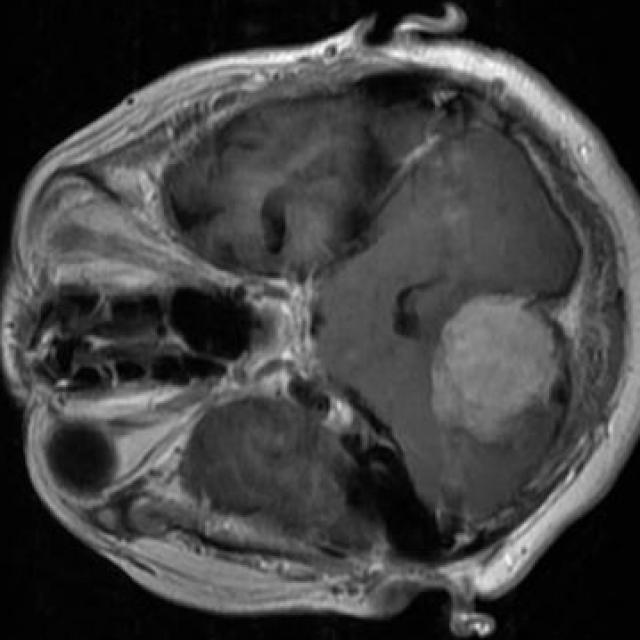meningioma: (433, 298, 558, 430)
